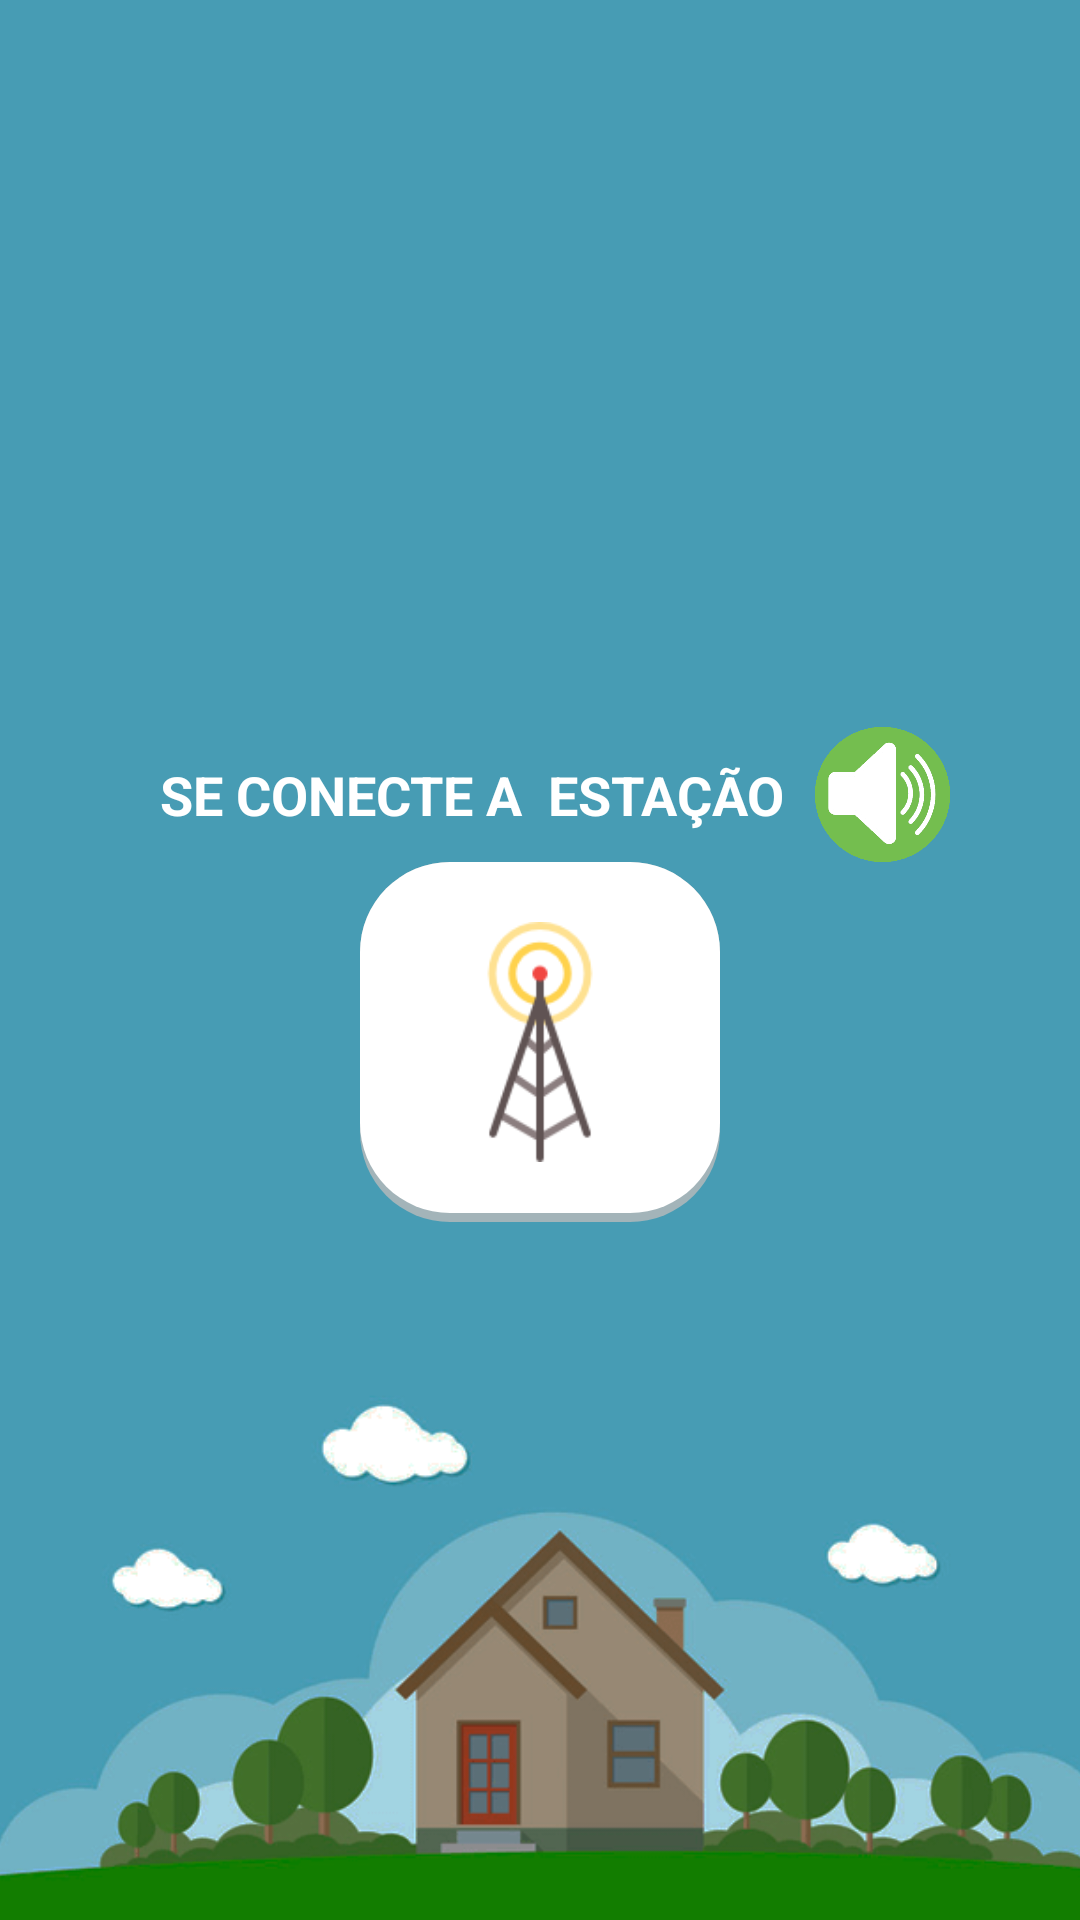

Icon bounding boxes for this 1080px x 1920px phone screenshot, format [x1,y1,x2,y2]:
speaker: [815,727,950,862]
wifi signal: [360,862,720,1222]
